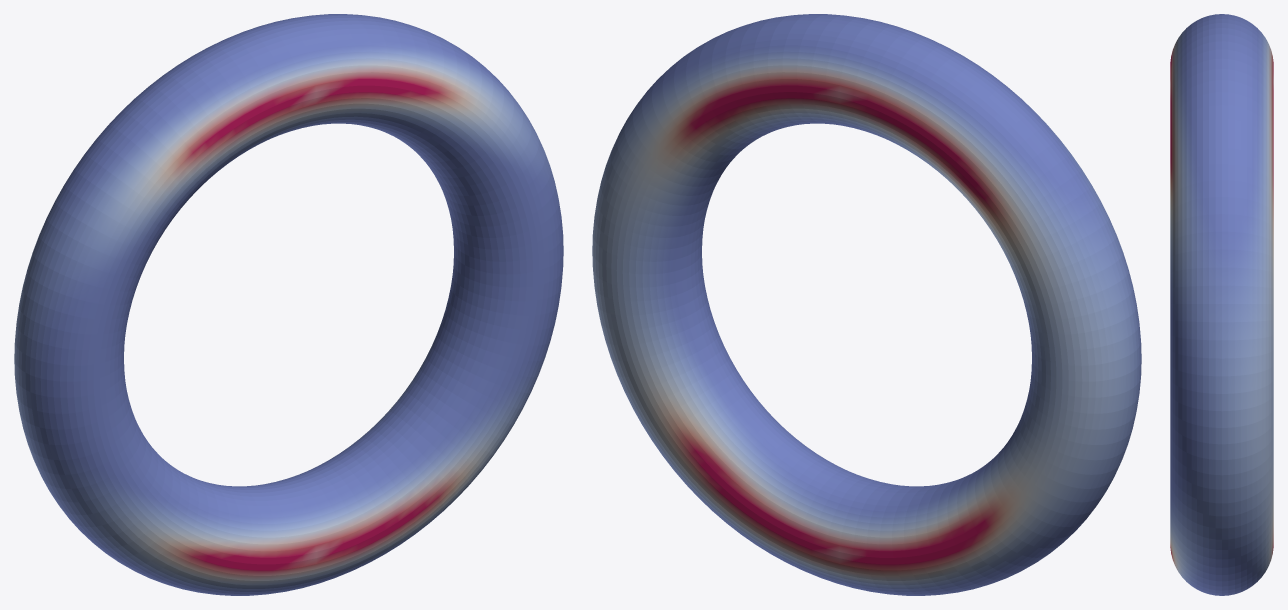
The picture shows the model from 3 angles, left to right: view 1: azimuth 30°, elevation 25°; view 2: azimuth 150°, elevation 25°; view 3: azimuth 270°, elevation 25°; orthographic projection. The views are drawn at different scales.
Parts seen in each view (by area): view 1: world; view 2: world; view 3: world.
Part boxes in pixels (x1,y1,x2,y2): world: (14,14,563,595); world: (592,14,1141,595); world: (1170,14,1273,595).
Size of the model in its own units: 20.27 by 20.27 by 3.59.
